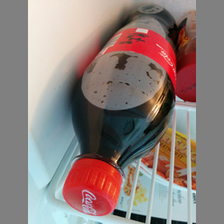soda: (62, 3, 181, 216)
